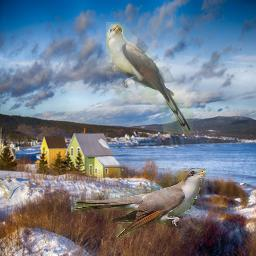Cuckoo: (106, 22, 193, 134), (71, 168, 206, 237)
